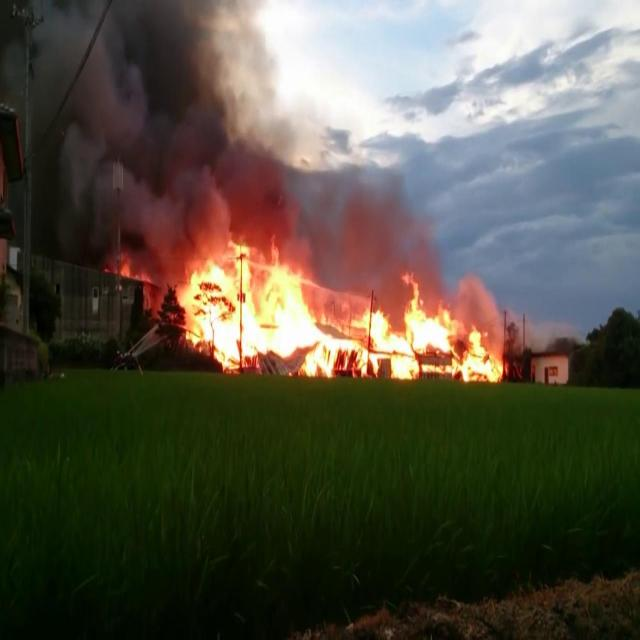Fire: (173, 246, 501, 382), (120, 256, 152, 284), (504, 358, 510, 374)
